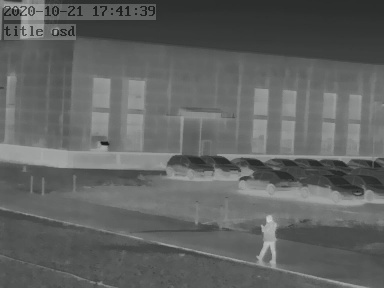person: (259, 212, 278, 264)
vehicle: (302, 173, 358, 200), (239, 169, 303, 191), (164, 153, 212, 179), (203, 153, 242, 177), (350, 173, 383, 200), (233, 155, 269, 171), (261, 155, 295, 169), (347, 156, 380, 170), (318, 156, 348, 170), (296, 155, 324, 169)
